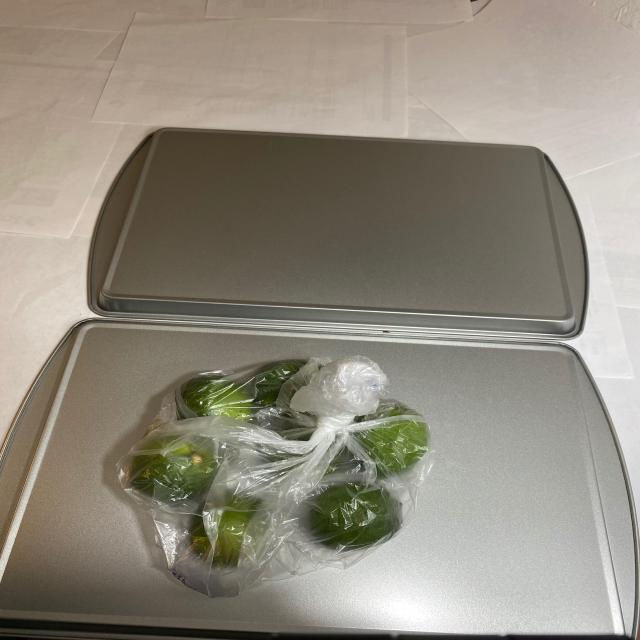lemon: (123, 356, 426, 573)
